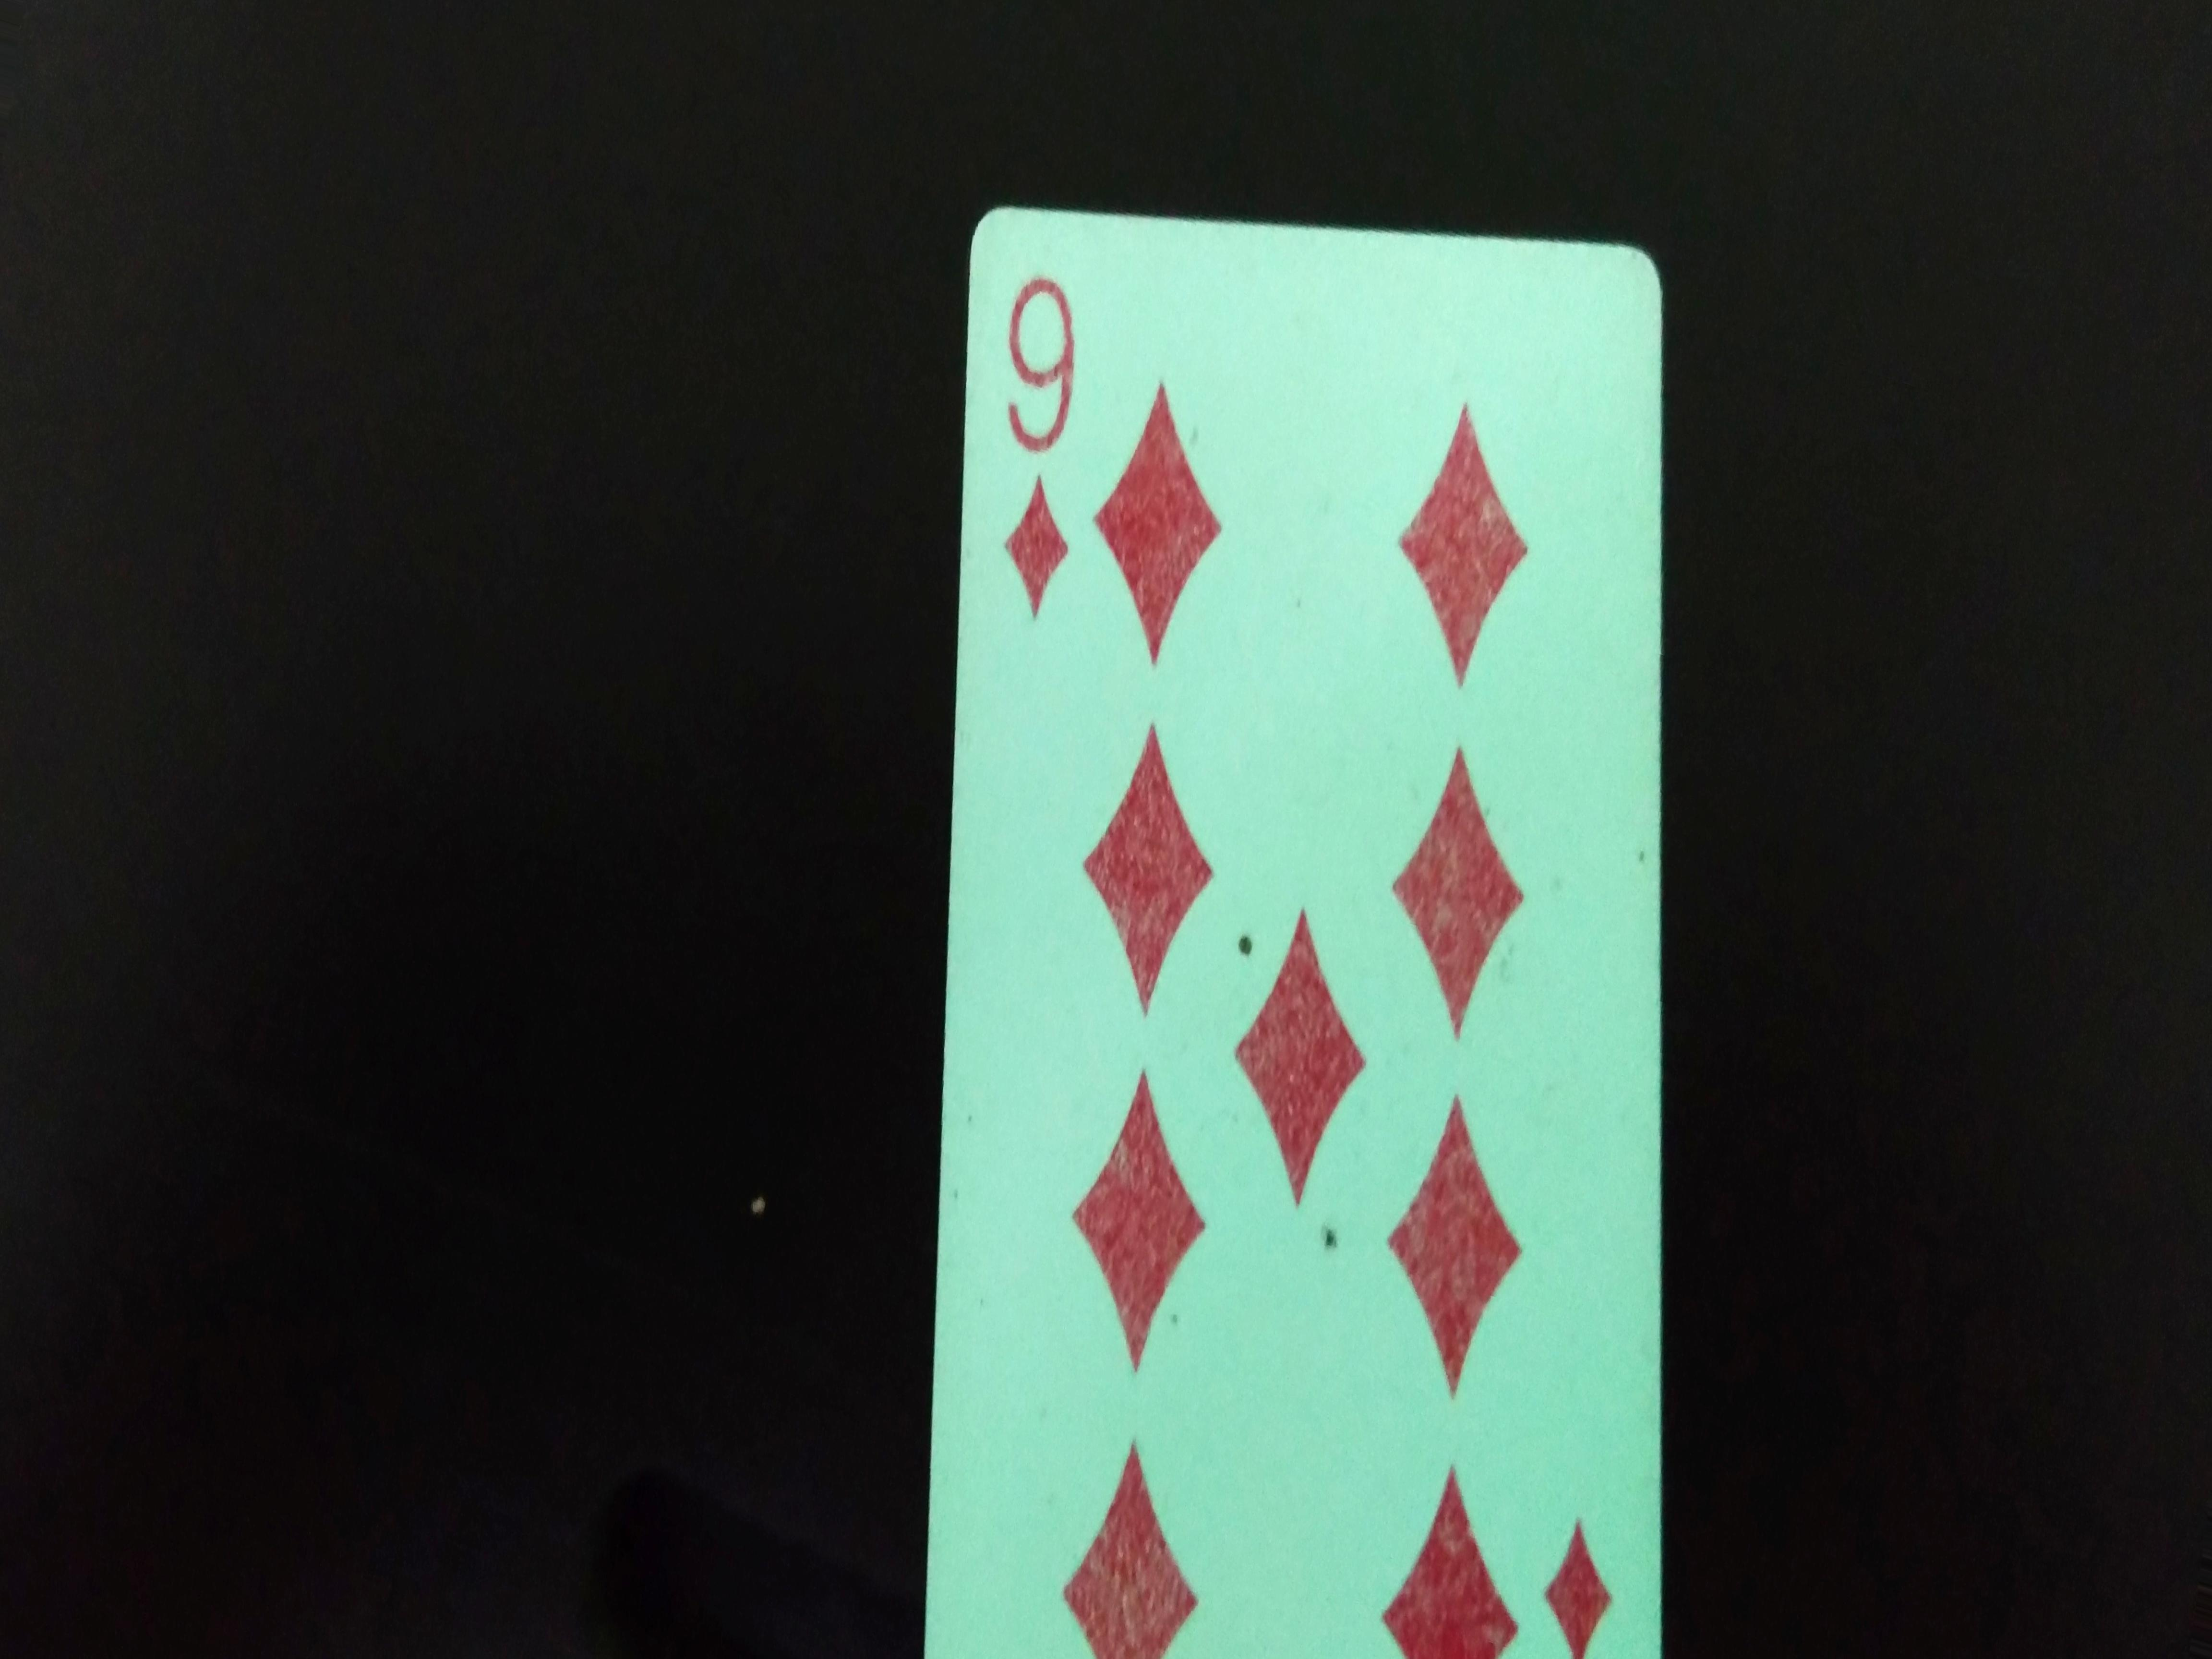9D: (981, 239, 1097, 666)
